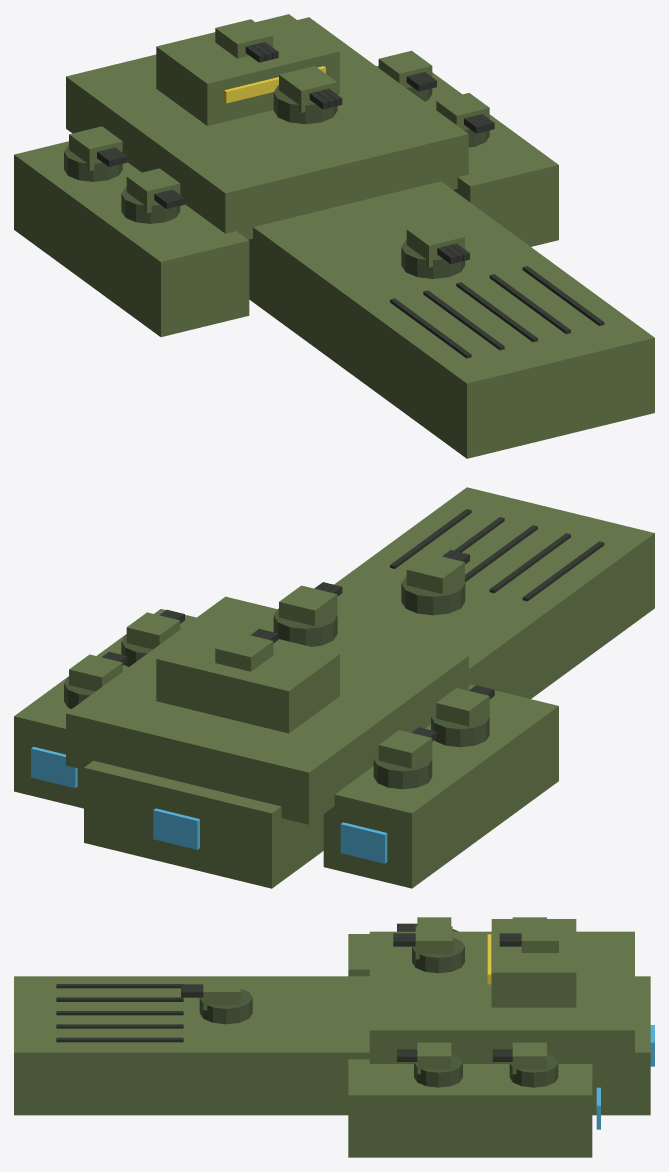
The model's file is medium_complete.obj.
3 views of the same model, one above another, from view 1: azimuth 30°, elevation 25°; view 2: azimuth 150°, elevation 25°; view 3: azimuth 270°, elevation 25° (orthographic). The views are drawn at different scales.
Bounding box in the file's own units: 3.6 × 1.49 × 6.04.
Materials: 5 (5 with a texture image).
